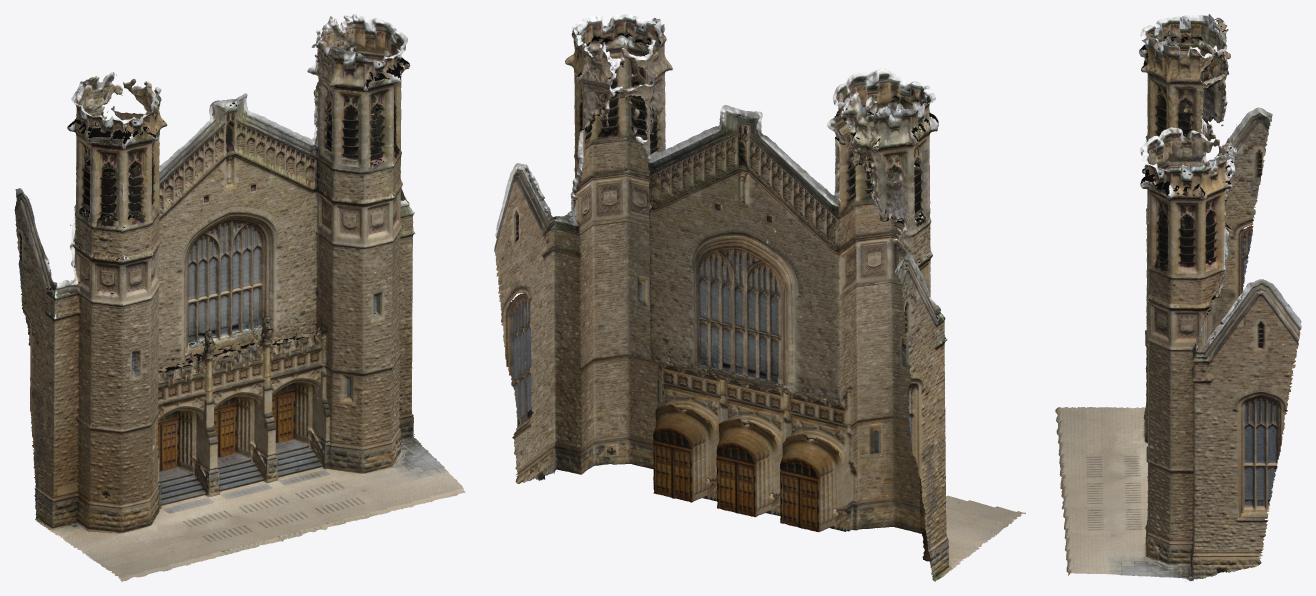
File: UoAHall LOW POLY FBX 2.fbx
3 renders of one model, left to right at view 1: azimuth 30°, elevation 25°; view 2: azimuth 150°, elevation 25°; view 3: azimuth 270°, elevation 25°, orthographic. The views are drawn at different scales.
Visible parts, largest first — view 1: Model; view 2: Model; view 3: Model.
Boxes of the visible parts, bbox=[...] form: Model: bbox=[14, 14, 465, 581]; Model: bbox=[494, 14, 1025, 581]; Model: bbox=[1055, 14, 1301, 581].
Bounding box in the file's own units: 1732 × 1946 × 1041.
Materials: 12 (12 with a texture image).
